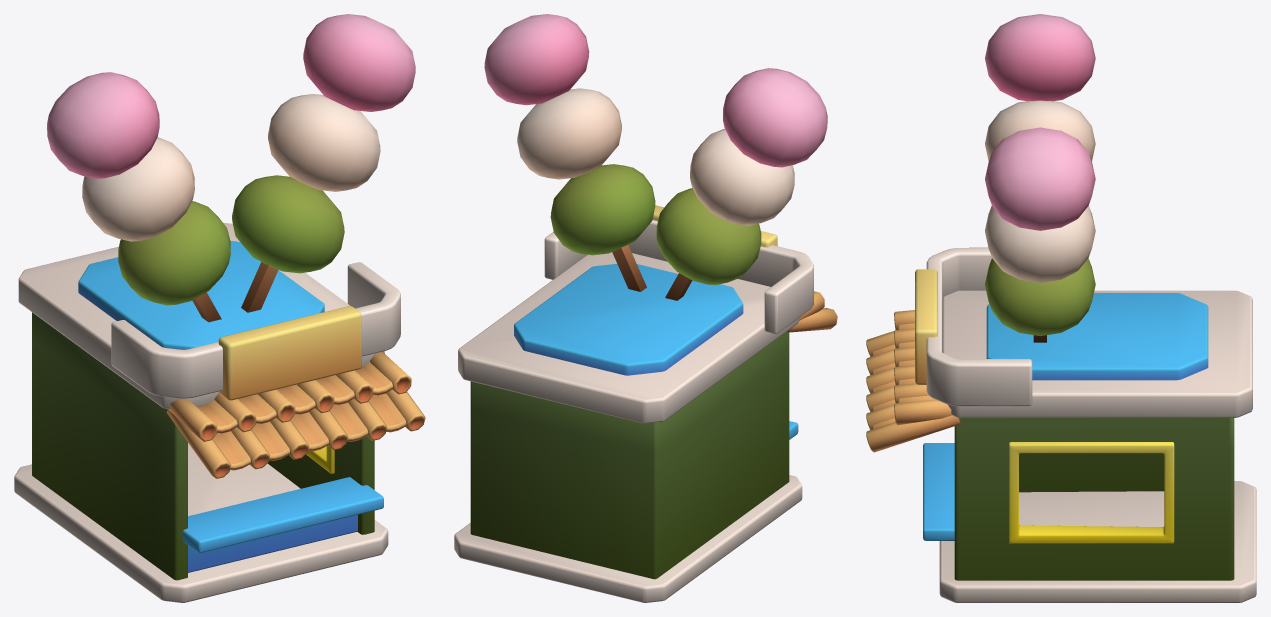
The model's file is lpb_store_mochi.fbx.
3 views of the same model, side by side, from view 1: azimuth 30°, elevation 25°; view 2: azimuth 150°, elevation 25°; view 3: azimuth 270°, elevation 25° (orthographic). The views are drawn at different scales.
Visible parts, largest first — view 1: Store.007; view 2: Store.007; view 3: Store.007.
Boxes of the visible parts, box(x1,y1,x2,y2) form: Store.007: box(14, 14, 425, 602); Store.007: box(454, 14, 837, 602); Store.007: box(866, 14, 1256, 602).
Bounding box in the file's own units: 500 × 666 × 497.
